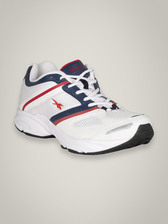shoes: (13, 61, 157, 154)
